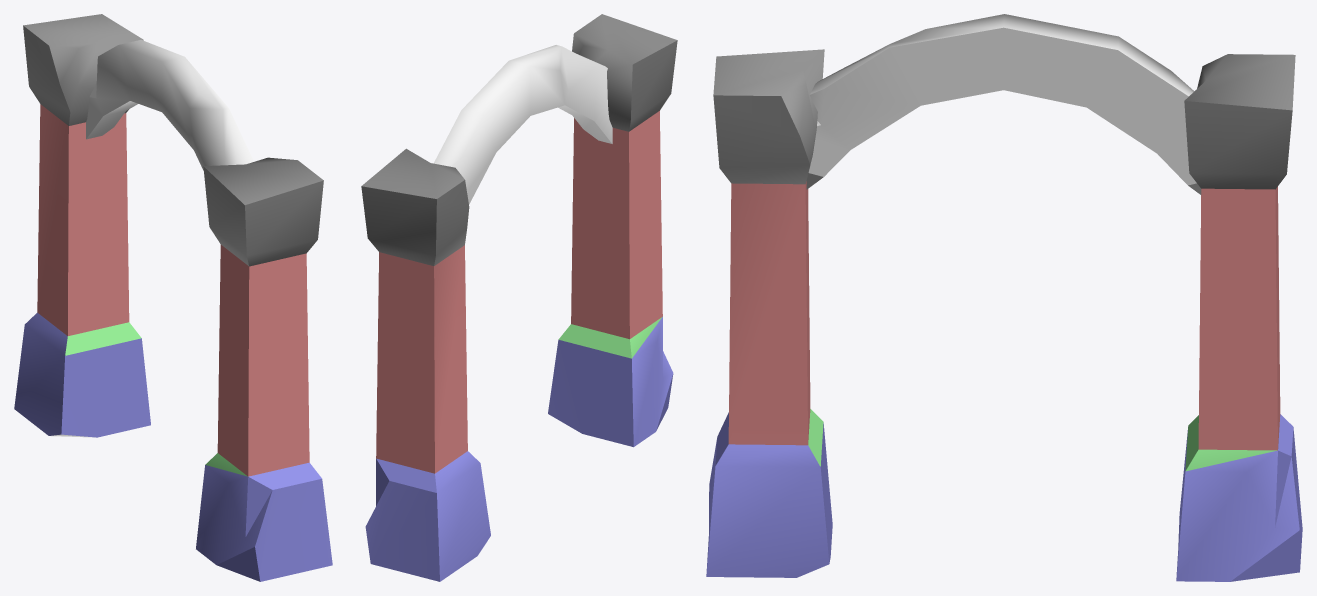
File: world_obj03.gltf
The picture shows the model from 3 angles, left to right: view 1: azimuth 30°, elevation 25°; view 2: azimuth 150°, elevation 25°; view 3: azimuth 270°, elevation 25°; orthographic projection. The views are drawn at different scales.
Parts seen in each view (by area): view 1: world_obj03; view 2: world_obj03; view 3: world_obj03.
Boxes of the visible parts, box(x1,y1,x2,y2) form: world_obj03: box(14, 14, 332, 581); world_obj03: box(361, 14, 677, 581); world_obj03: box(706, 14, 1302, 581).
Bounding box in the file's own units: 0.5488 × 2.35 × 2.39.
